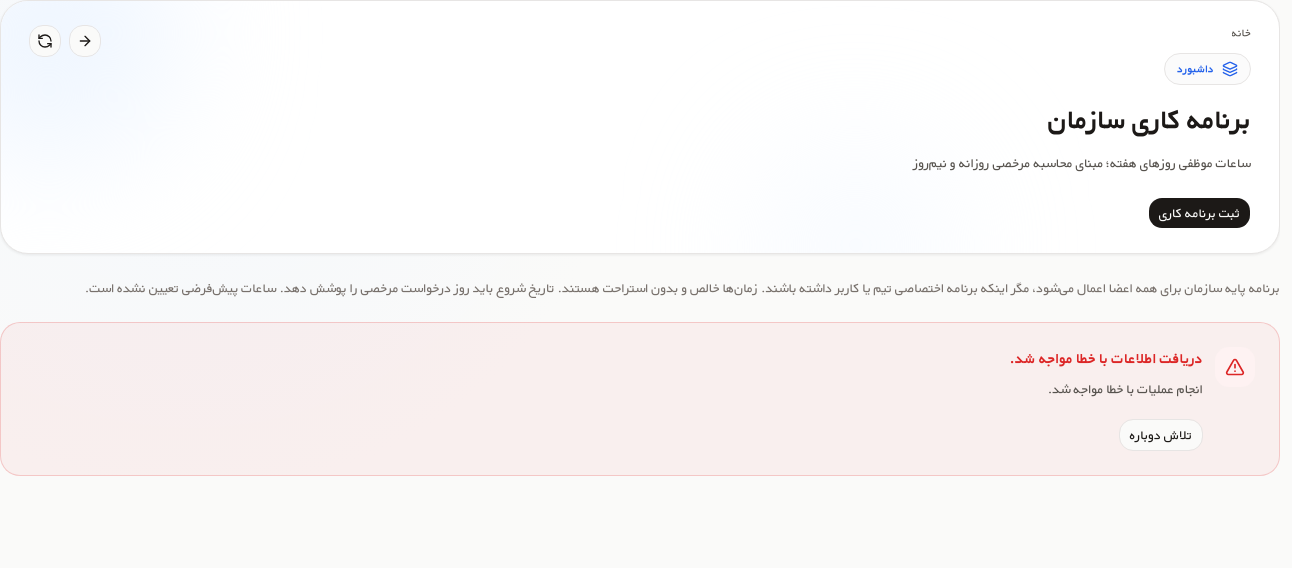
Test case: work schedule setup › offers a safe retry after a recoverable query failure
expect the message does not show "private transport detail": met, box [0,322,1280,476]
Click the button "تلاش دوباره" at (1161, 435), box [1119,419,1203,451]
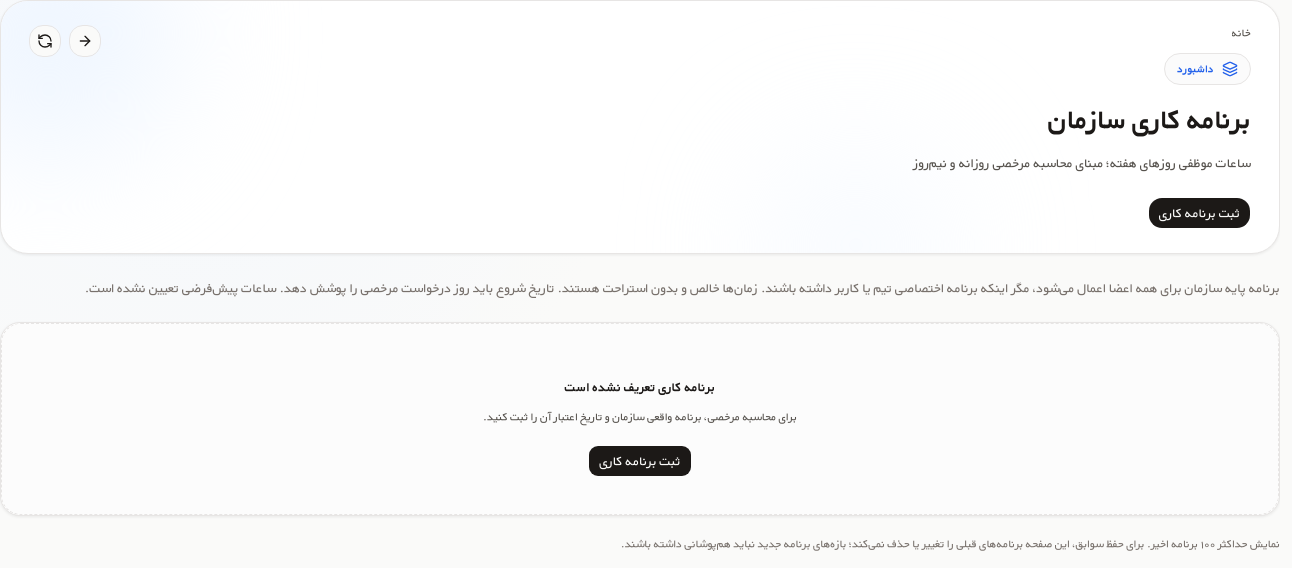
expect the number of headings "برنامه کاری تعریف نشده است" is 2: met
